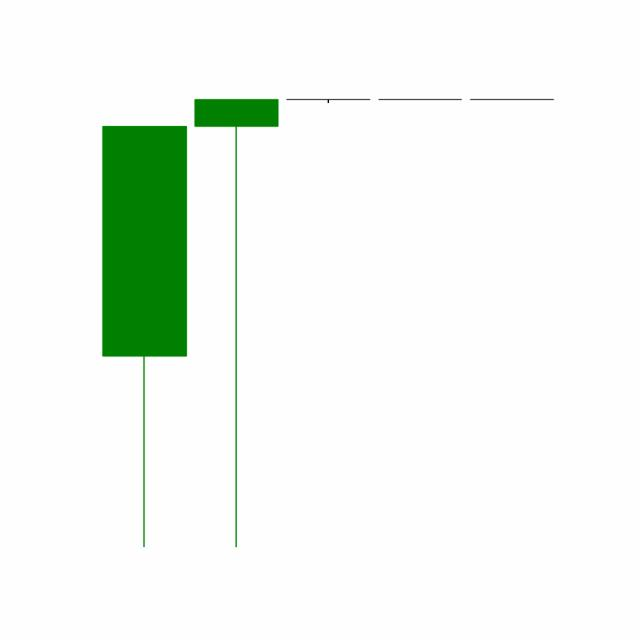Hammer: (465, 98, 557, 100)
